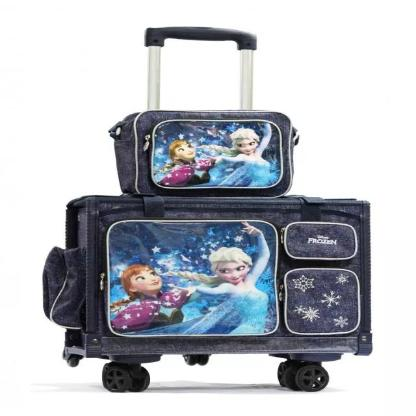bag: (40, 20, 381, 395)
